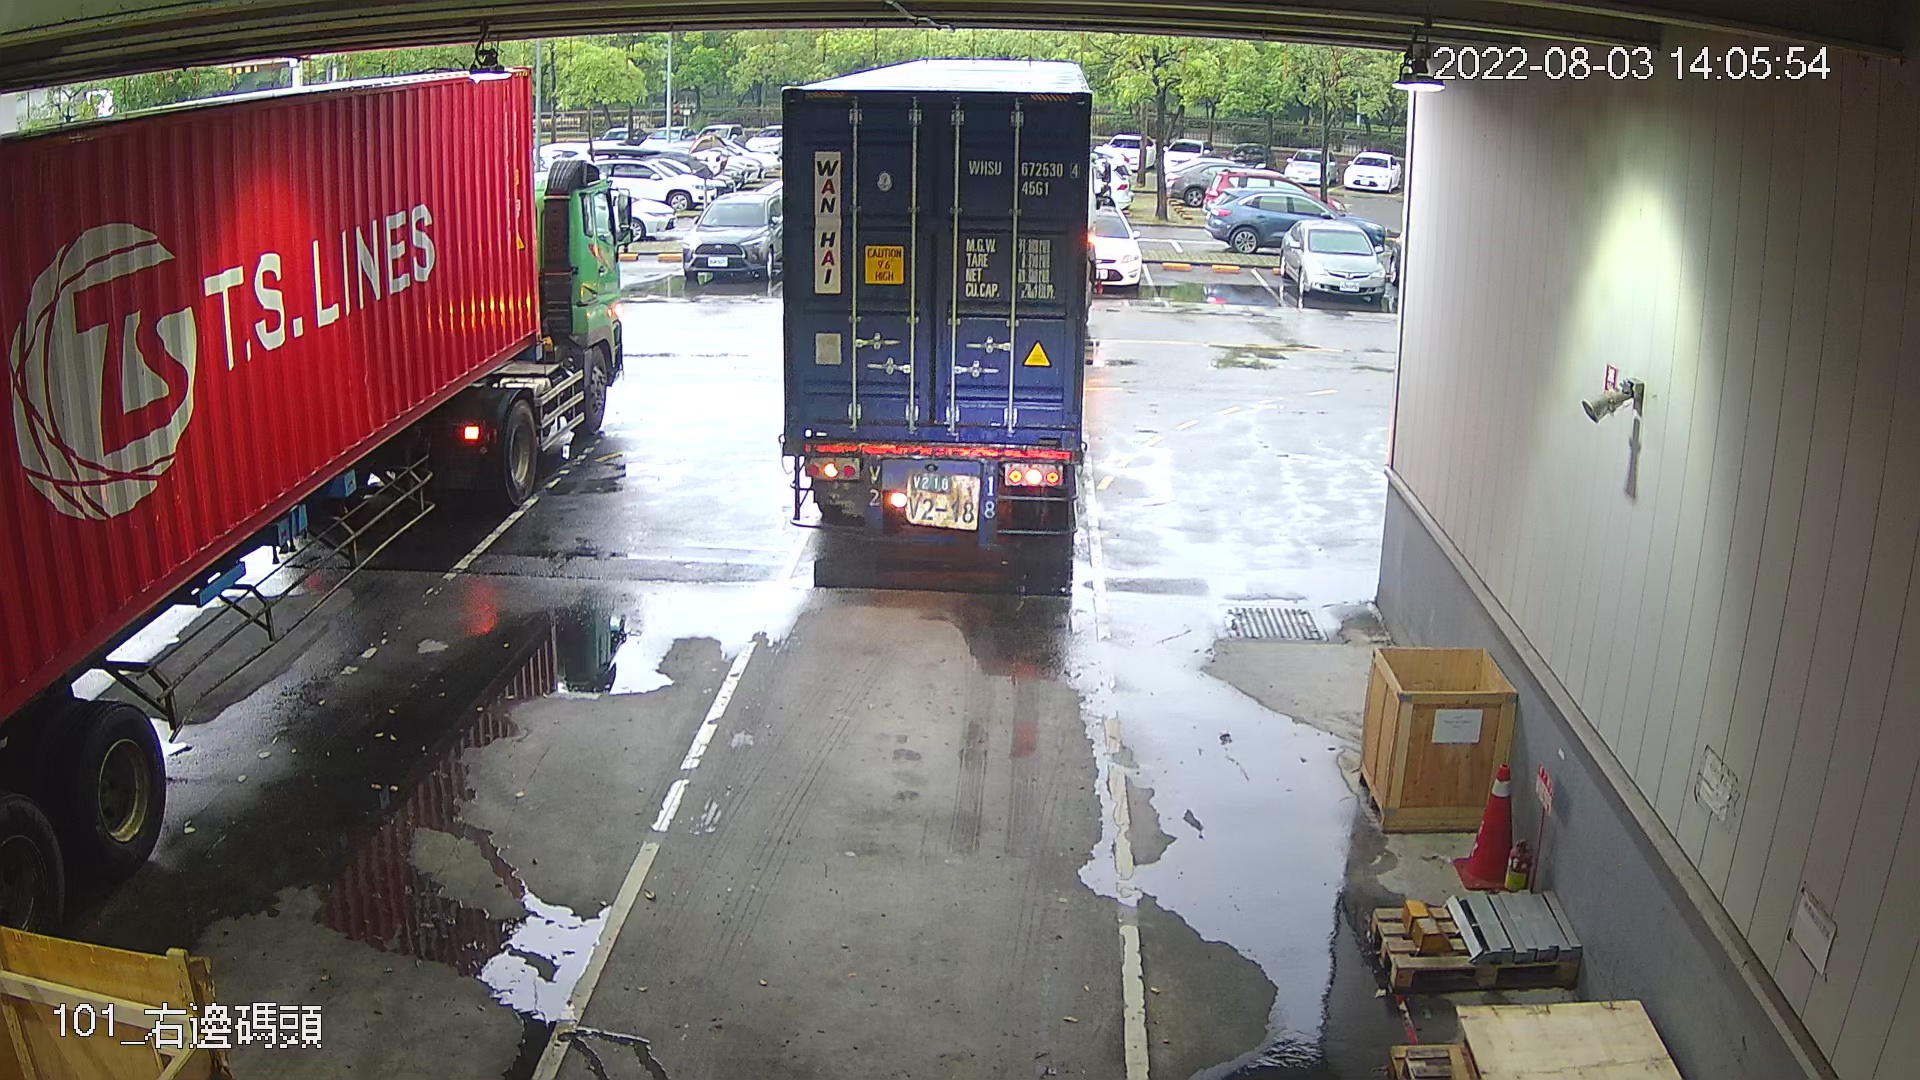container: (960, 152, 1084, 204)
